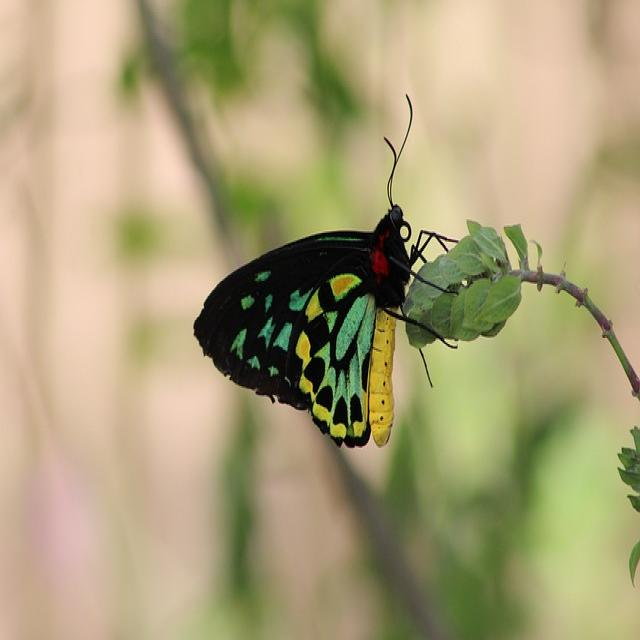butterfly: (193, 206, 437, 448)
